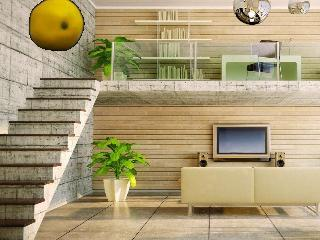lemon: (30, 0, 83, 50)
